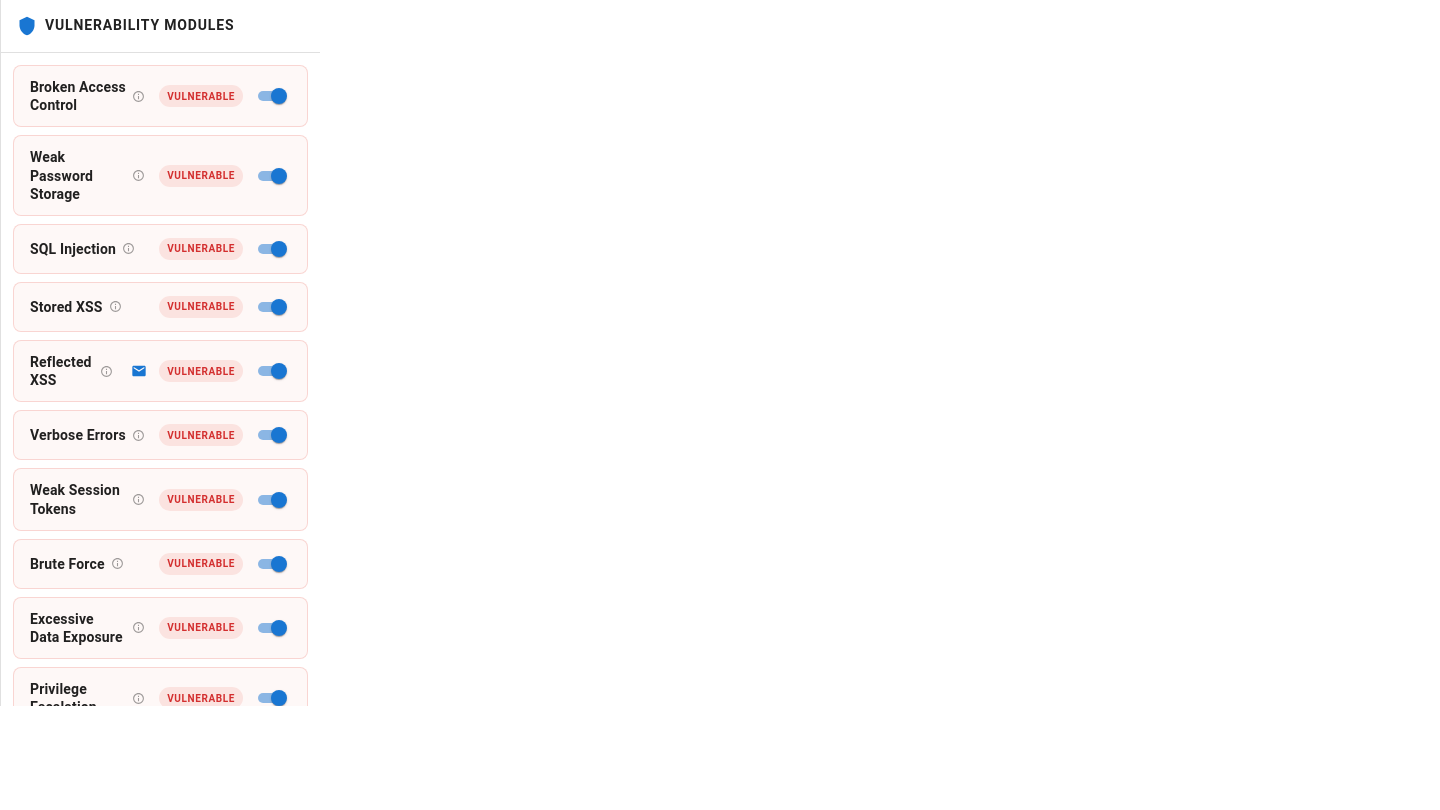
Test: VulnerabilityPanel session re-login dialog › toggling weak_session_tokens opens the session dialog
The width and height of the screenshot is (1440, 810).
Click the switch named "Toggle Weak Session Tokens" at (279, 500), box [271,492,287,508]
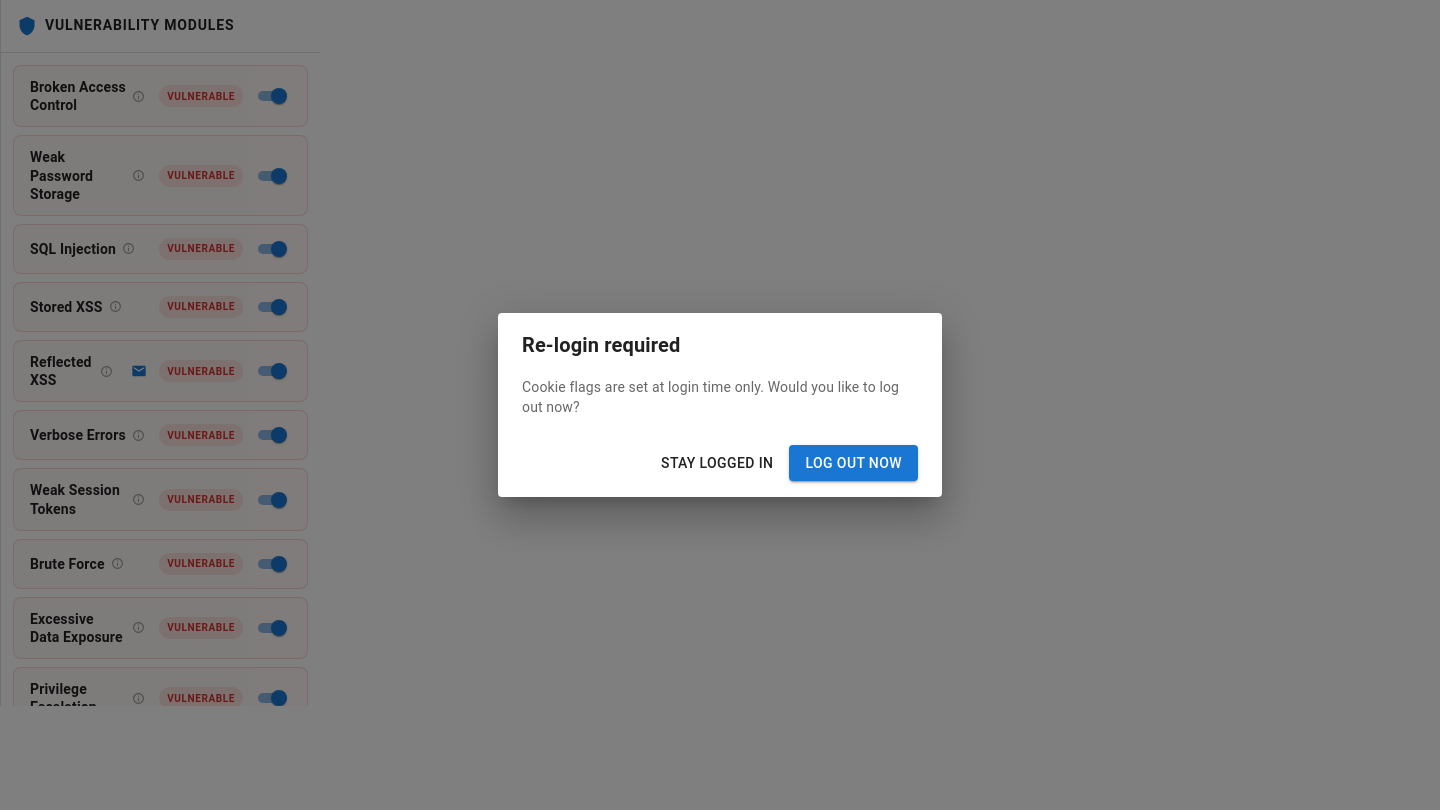
expect the dialog is shown: met, box [498,313,942,497]
expect the heading "Re-login required" is shown: met, box [522,333,680,357]
